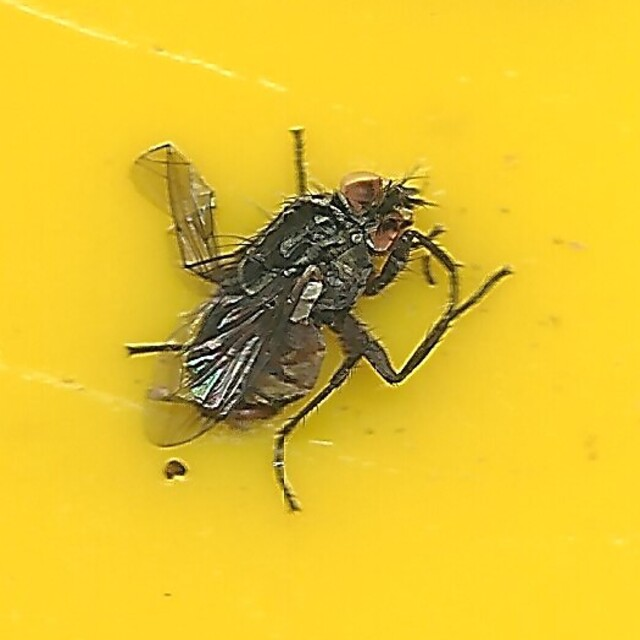Brachycera: (122, 123, 518, 517)
